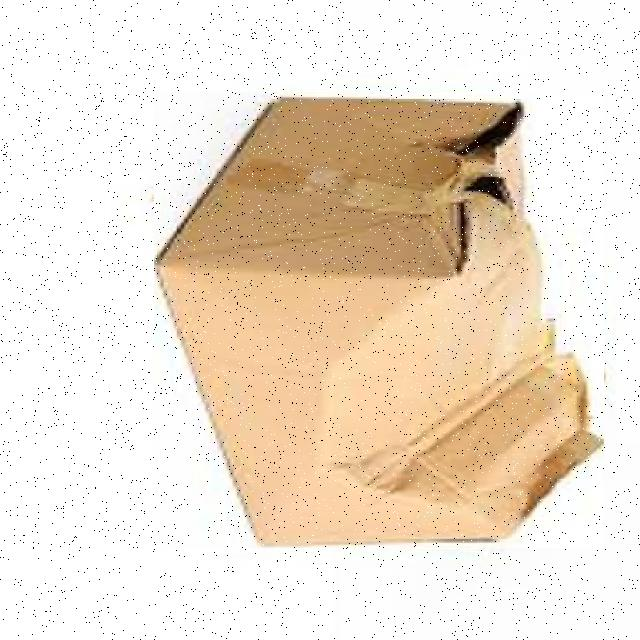defect: (154, 92, 604, 548)
